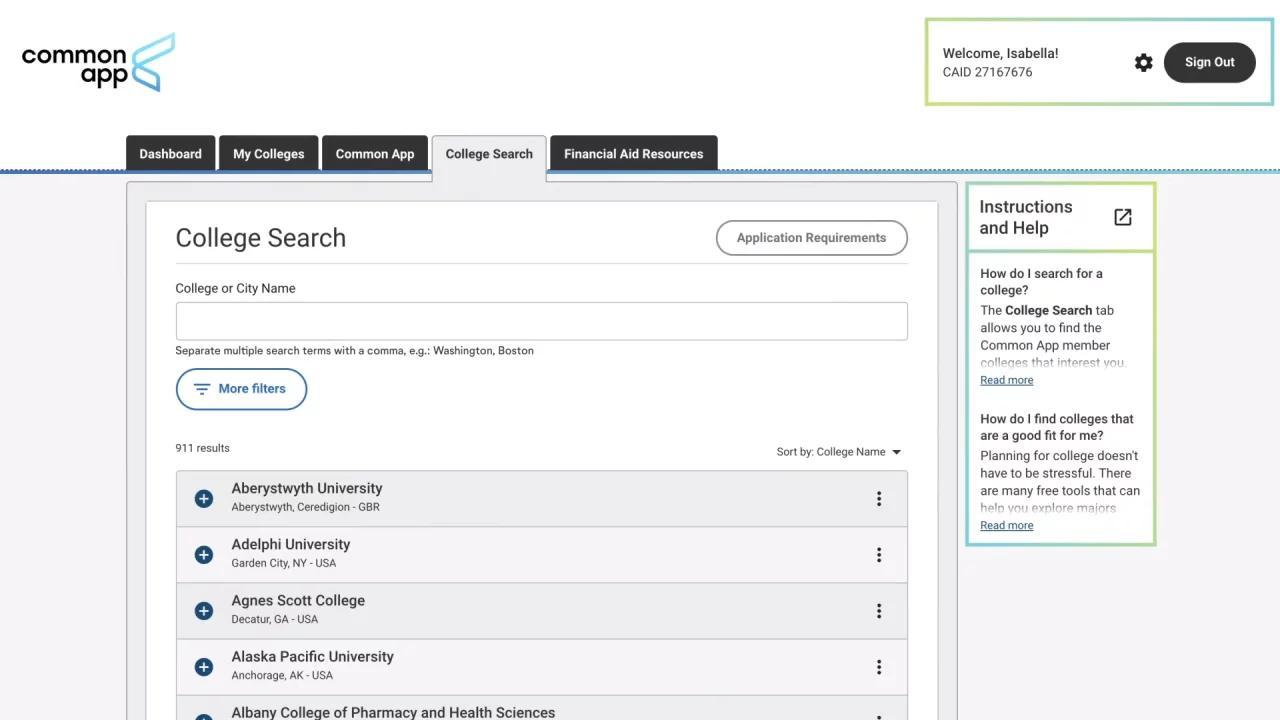button: (715, 219, 908, 257), (175, 367, 312, 412), (552, 137, 718, 172), (325, 135, 429, 176), (435, 138, 548, 173), (1165, 43, 1258, 83), (221, 135, 320, 172), (126, 135, 215, 174)
icon: (869, 535, 887, 569), (1134, 50, 1157, 76), (1113, 205, 1137, 229), (192, 545, 218, 566), (193, 657, 218, 678), (195, 602, 218, 624), (196, 489, 216, 511), (873, 656, 888, 680), (872, 489, 887, 510), (873, 602, 887, 623)
input: (179, 303, 909, 341)
label: (230, 699, 558, 720), (175, 226, 349, 255), (231, 587, 367, 614), (231, 645, 400, 664), (227, 478, 387, 498), (227, 533, 351, 556), (172, 278, 304, 299)
table: (179, 469, 908, 720)
